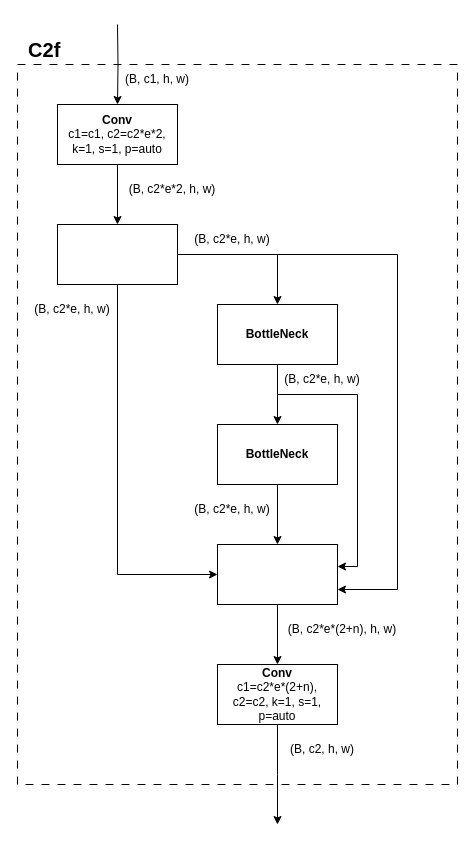
This 475x850 diagram has some shape labels left out. Here are the shapes that lost their labels. From the top down, the centre of each, then its label:
At point 117,254: "chunk(2,1)".
At point 277,574: "concat".
